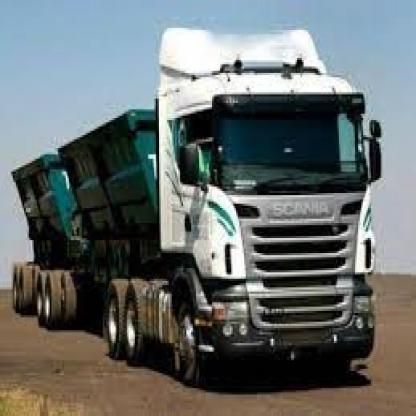dump_truck: (5, 23, 389, 384)
